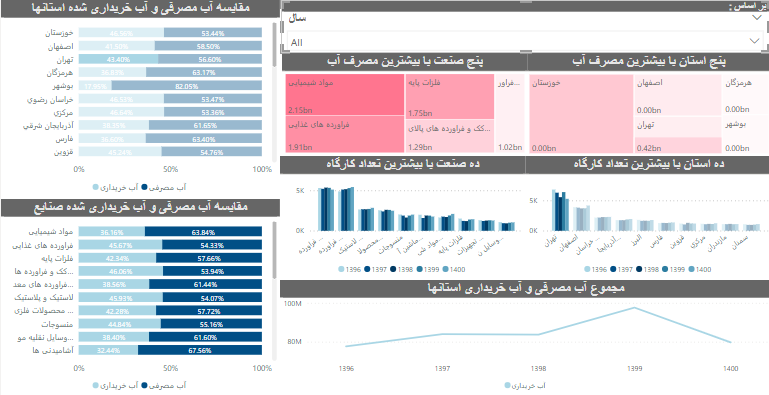

The page's visual inventory and layout, read from the dashboard file:
{"tool":"powerbi","page":{"name":"مصرف آب کارگاه صنعتی ","canvas":[1280,720],"ordinal":1},"visuals":[{"type":"lineChart","title":"مجموع آب مصرفی و آب خریداری استانها","fields":{"Category":["آب استان.سال"],"Y":["Sum(آب استان.مقادیر)"],"Series":["آب استان.نوع آب"]},"box":[463,526.8,817,192.9],"z":0},{"type":"hundredPercentStackedBarChart","title":"مقایسه آب مصرفی و آب خریداری شده صنایع","fields":{"Category":["آب صنایع.صنایع"],"Series":["آب صنایع.نوع آب"],"Y":["Sum(آب صنایع.مقادیر)"]},"box":[0,392.6,463,328],"z":1000},{"type":"hundredPercentStackedBarChart","title":"مقایسه آب مصرفی و آب خریداری شده استانها","fields":{"Category":["آب استان.استان"],"Y":["Sum(آب استان.مقادیر)"],"Series":["آب استان.نوع آب"]},"box":[0,62,463,329],"z":2000},{"type":"treemap","title":"پنج استان با بیشترین مصرف آب","fields":{"Group":["آب استان.استان"],"Values":["Sum(آب استان.مقادیر)"]},"box":[871.6,149.4,408.4,171],"z":3000},{"type":"treemap","title":"پنج صنعت با بیشترین مصرف آب","fields":{"Values":["Sum(آب صنایع.مقادیر)"],"Group":["آب صنایع.صنایع"]},"box":[466,149.4,408.4,170],"z":4000},{"type":"clusteredColumnChart","title":"ده استان با بیشترین تعداد کارگاه","fields":{"Category":["تعداد کارگاه استان.استان"],"Y":["Sum(تعداد کارگاه استان.مقادیر)"],"Series":["تعداد کارگاه استان.سال"]},"box":[872.3,320,407.7,205],"z":5000},{"type":"clusteredColumnChart","title":"ده صنعت با بیشترین تعداد کارگاه","fields":{"Category":["تعداد کارگاه صنایع.صنایع"],"Y":["Sum(تعداد کارگاه صنایع.مقادیر)"],"Series":["تعداد کارگاه صنایع.سال"]},"box":[463,320,408,205],"z":6000},{"type":"slicer","title":": بر اساس","fields":{"Values":["آب استان.سال"]},"box":[465,62,811,88],"z":7000}]}

Visuals, with their boxes on the page's 1280x720 design canvas (x1, y1, x2, y2). These are canvas units, not pixel positions in the 769x395 screenshot, which may show the page scaled, cropped or inside an application window:
"مجموع آب مصرفی و آب خریداری استانها" lineChart: bbox=[463, 527, 1280, 720]
"مقایسه آب مصرفی و آب خریداری شده صنایع" hundredPercentStackedBarChart: bbox=[0, 393, 463, 721]
"مقایسه آب مصرفی و آب خریداری شده استانها" hundredPercentStackedBarChart: bbox=[0, 62, 463, 391]
"پنج استان با بیشترین مصرف آب" treemap: bbox=[872, 149, 1280, 320]
"پنج صنعت با بیشترین مصرف آب" treemap: bbox=[466, 149, 874, 319]
"ده استان با بیشترین تعداد کارگاه" clusteredColumnChart: bbox=[872, 320, 1280, 525]
"ده صنعت با بیشترین تعداد کارگاه" clusteredColumnChart: bbox=[463, 320, 871, 525]
": بر اساس" slicer: bbox=[465, 62, 1276, 150]
